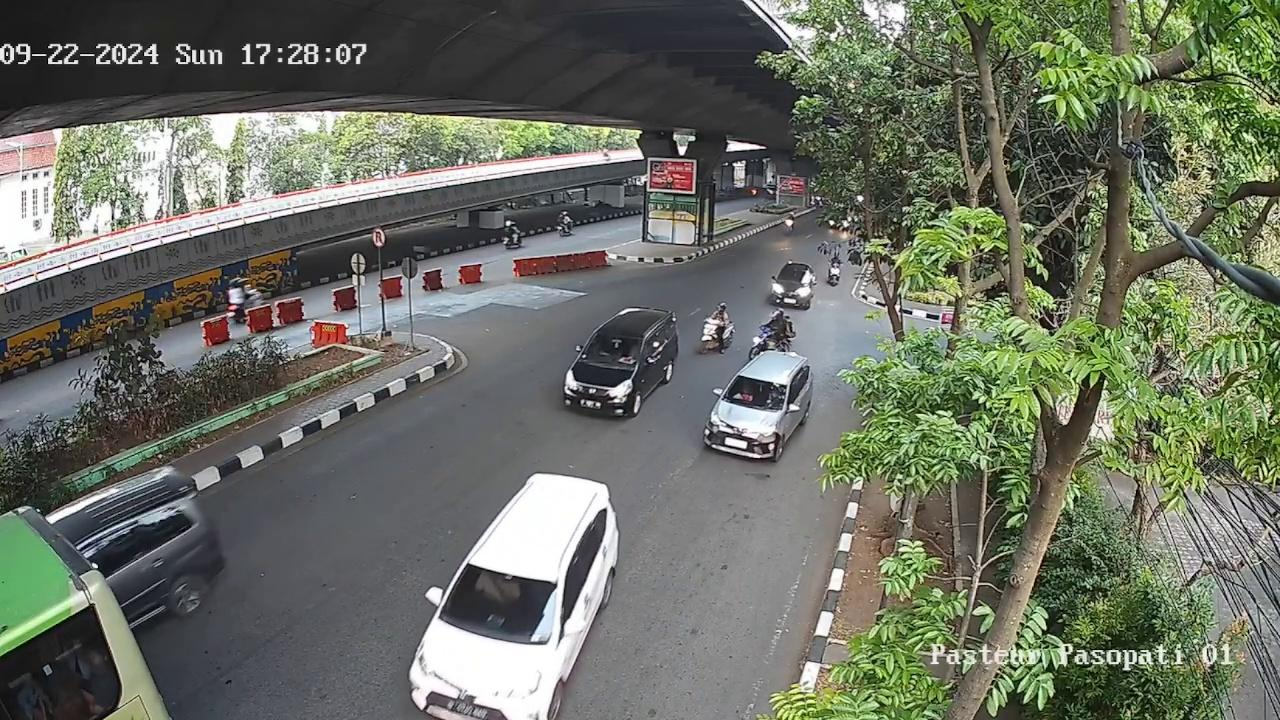pakai: (474, 572, 525, 611)
windshield: (430, 563, 571, 640), (580, 334, 640, 371), (723, 376, 787, 408)
